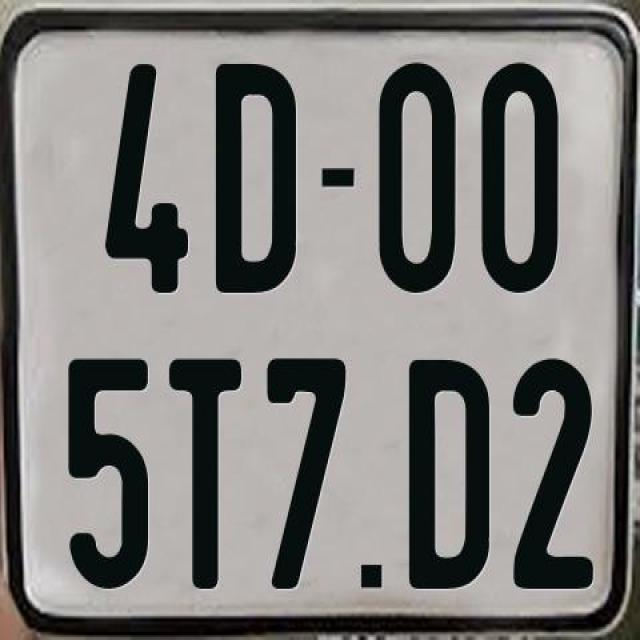0: (378, 61, 464, 300), (479, 61, 562, 294)
2: (510, 354, 598, 588)
4: (104, 64, 188, 299)
5: (64, 357, 151, 590)
7: (266, 354, 352, 590)
D: (408, 357, 491, 596), (216, 63, 299, 294)
T: (165, 354, 240, 586)
